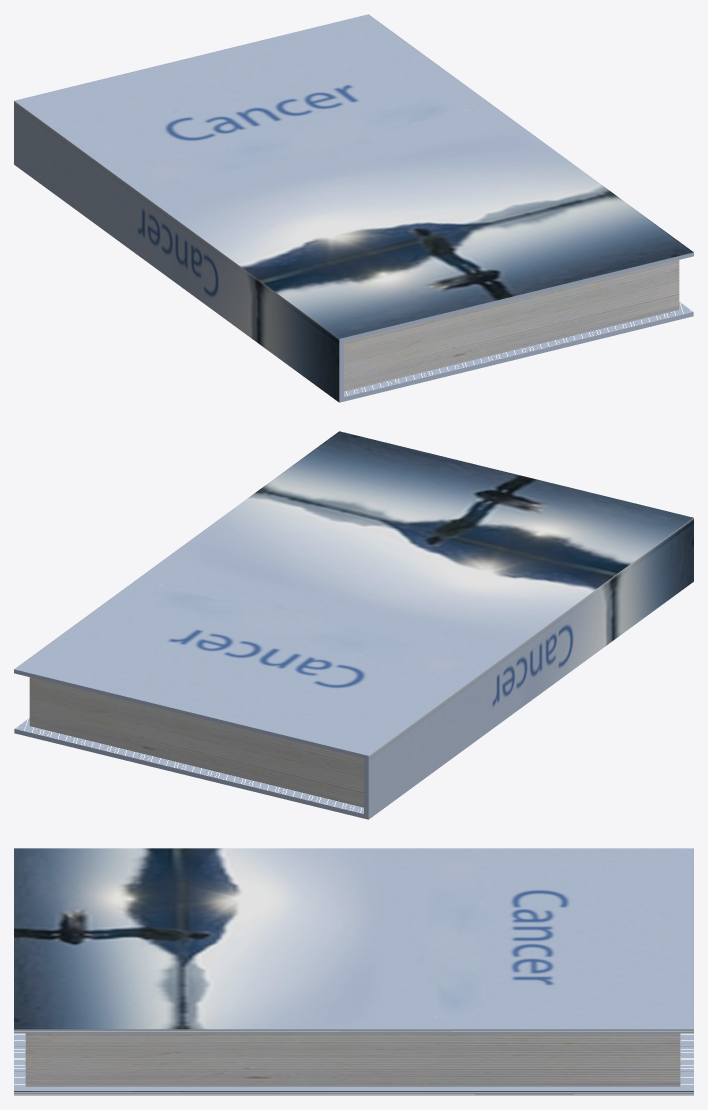
The model's file is Book.FBX.
3 views of the same model, one above another, from view 1: azimuth 30°, elevation 25°; view 2: azimuth 150°, elevation 25°; view 3: azimuth 270°, elevation 25° (orthographic). The views are drawn at different scales.
Parts seen in each view (by area): view 1: Book; view 2: Book; view 3: Book.
Part boxes in pixels (<box>): Book: <box>14,14,693,402</box>; Book: <box>14,431,693,819</box>; Book: <box>14,848,693,1095</box>.
Size of the model in its own units: 15.2 by 2.61 by 24.15.
1 material, 1 textured.
